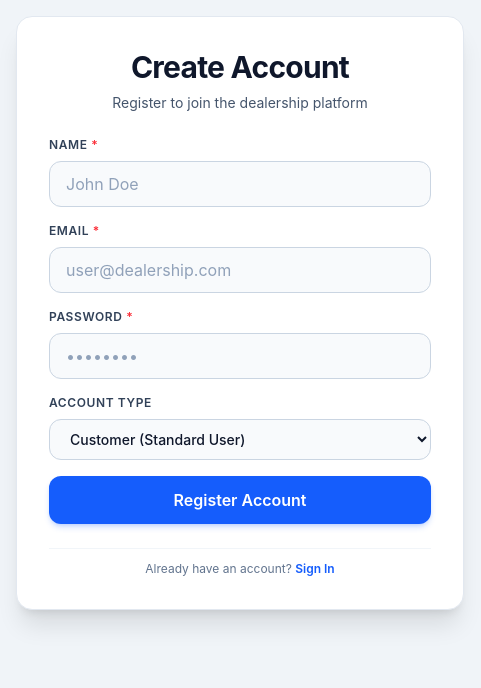
Test: Register Page Component › should show validation errors when submitting empty required fields
Click the button "Register Account" at x=240, y=500, box [49, 476, 431, 524]
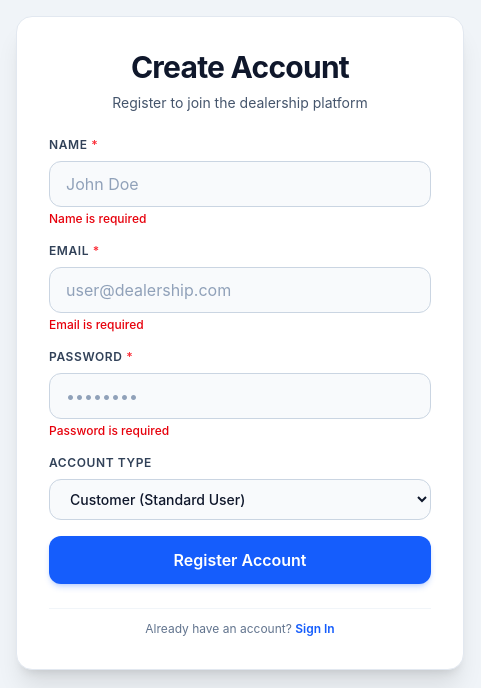
Expected: the text "Name is required" is shown, [49, 211, 146, 226]
Expected: the text "Email is required" is shown, [49, 317, 144, 332]
Expected: the text "Password is required" is shown, [49, 423, 169, 438]
